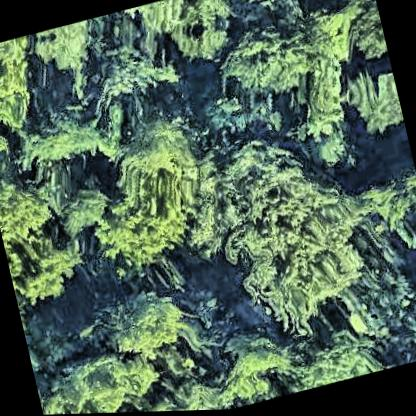tree-top: (195, 119, 380, 339), (80, 133, 202, 267), (202, 4, 330, 114), (32, 339, 163, 415), (6, 103, 110, 187), (80, 29, 180, 108), (282, 317, 384, 394), (206, 324, 291, 411), (98, 285, 190, 364), (149, 0, 240, 76), (8, 241, 90, 317), (342, 64, 406, 145), (359, 167, 416, 254), (323, 0, 390, 74), (24, 19, 104, 80), (0, 35, 45, 138), (0, 174, 59, 246), (48, 184, 115, 243), (226, 0, 324, 22), (160, 374, 216, 412)
